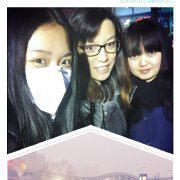NONE: (80, 34, 119, 81), (129, 44, 163, 80)
OK: (18, 49, 81, 112)
